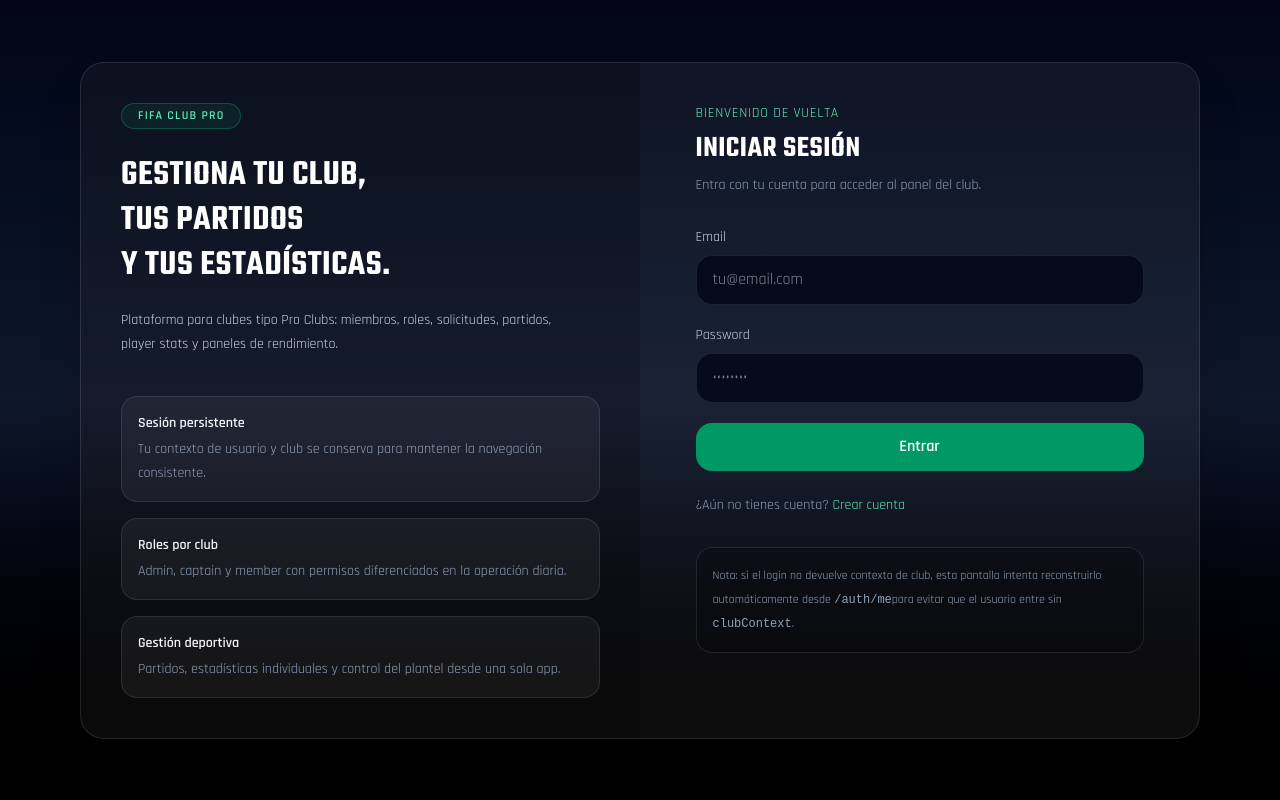
Test: Login › muestra error si login falla
In the field labelled "Email": {"x": 920, "y": 280} [696,254,1144,304], type "test@mail.com"
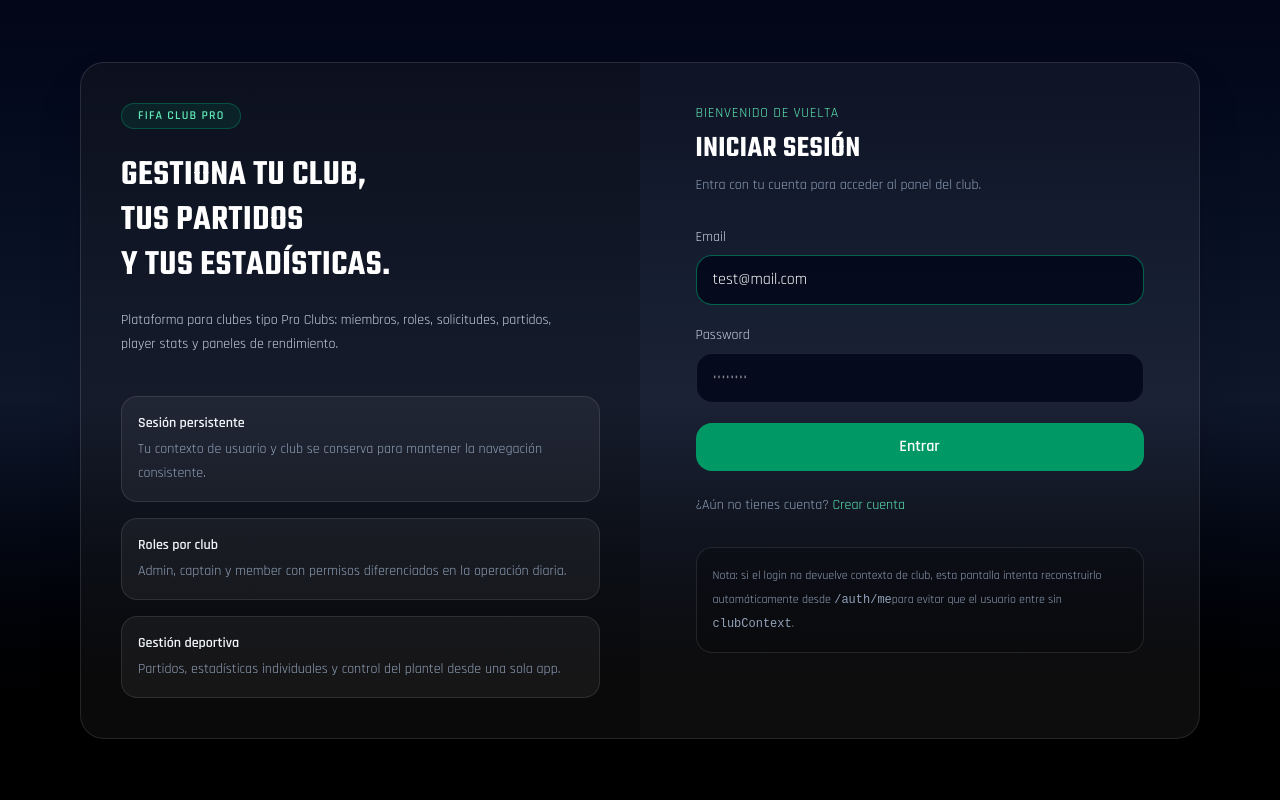
In the password field labelled "Password": {"x": 920, "y": 378} [696,352,1144,402], type "123456"
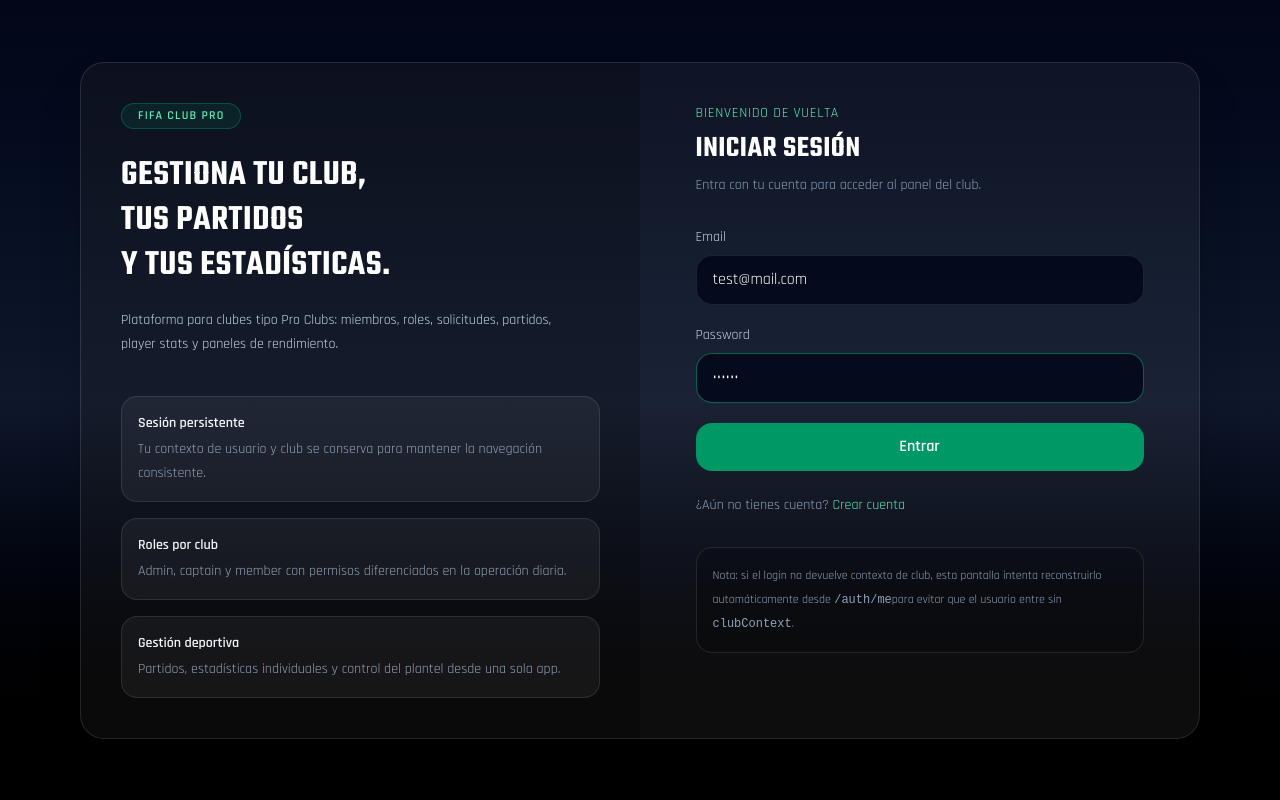
Click the button "Entrar": {"x": 920, "y": 446} [696,422,1144,470]
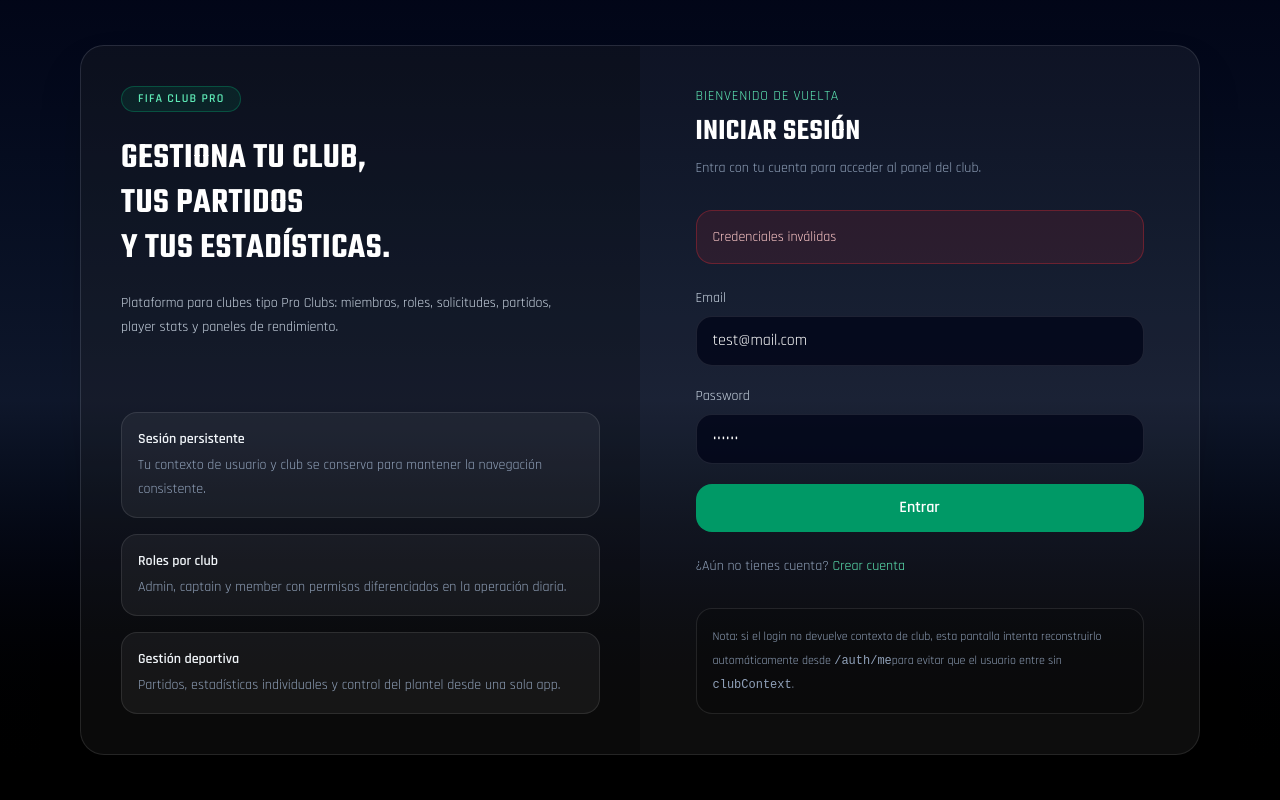
Now the text "Credenciales inválidas" is shown, box [696,210,1144,264]
